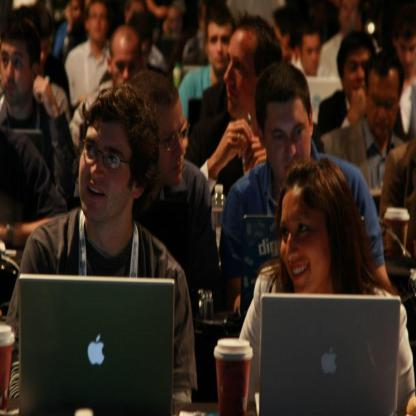board: (20, 272, 174, 410), (254, 294, 400, 416), (214, 338, 253, 416), (384, 208, 410, 265), (0, 321, 13, 408), (212, 183, 226, 248)
